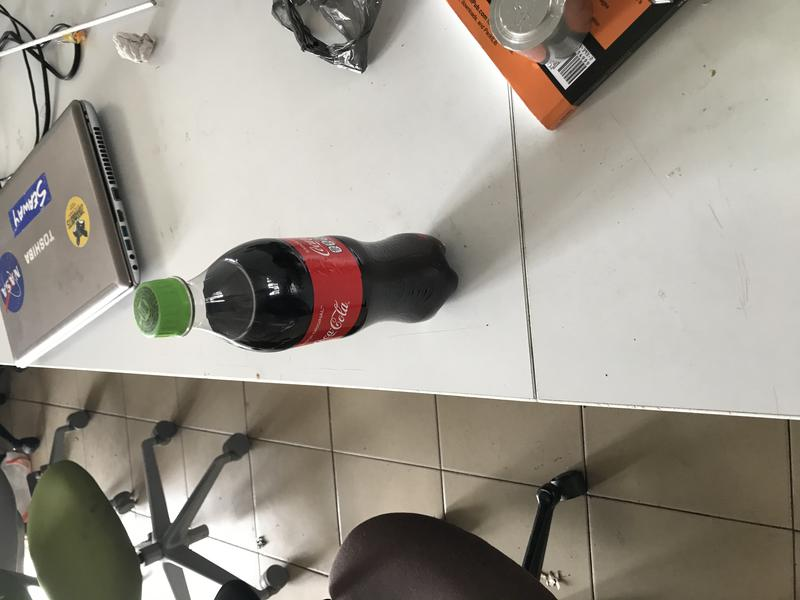coca_cola: (132, 232, 460, 352)
